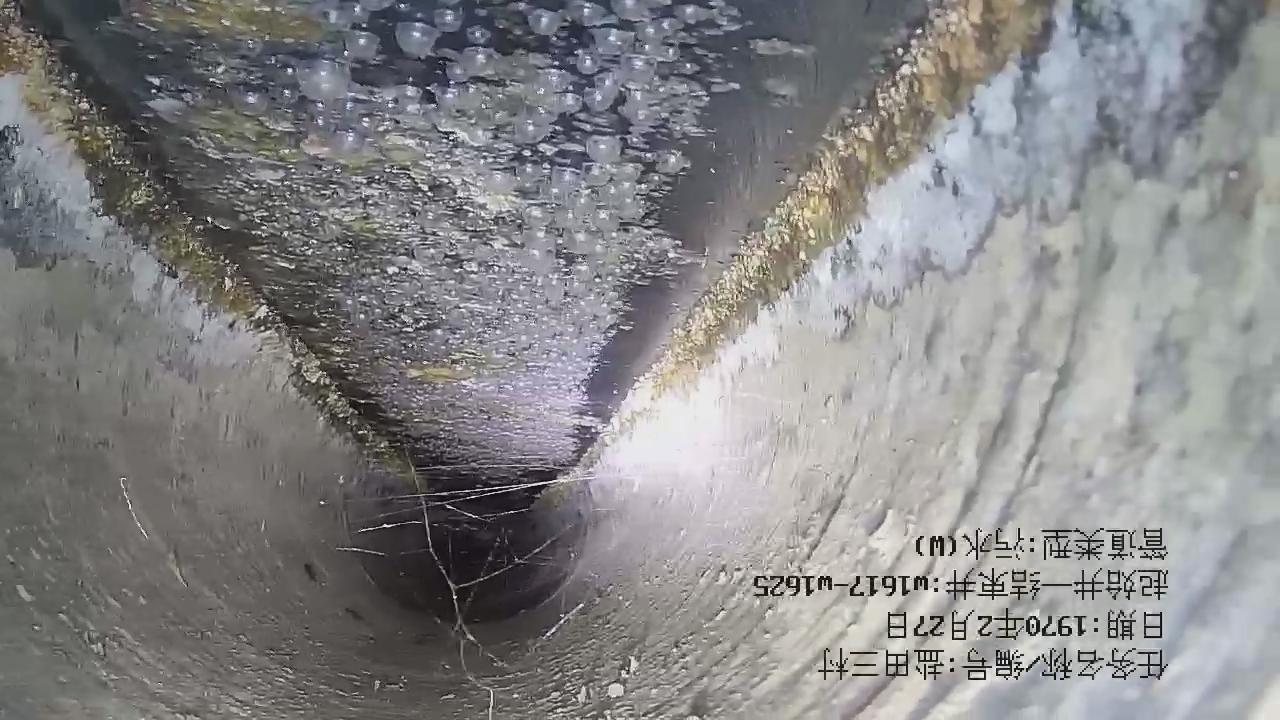FZ: (100, 1, 738, 483)
